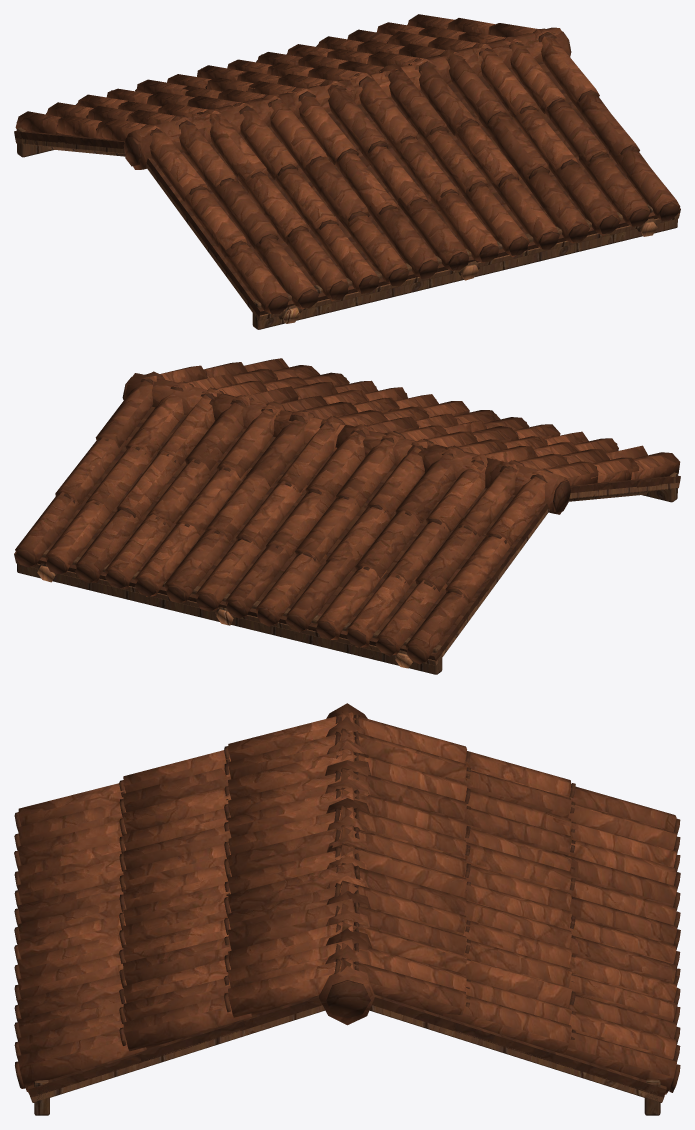
The model's file is roof_26_ridge__clay_brick.glb.
3 renders of one model, top to bottom at view 1: azimuth 30°, elevation 25°; view 2: azimuth 150°, elevation 25°; view 3: azimuth 270°, elevation 25°, orthographic. The views are drawn at different scales.
Parts seen in each view (by area): view 1: model; view 2: model; view 3: model.
Boxes of the visible parts, box(x1,y1,x2,y2) form: model: box(14, 14, 680, 329); model: box(14, 358, 680, 674); model: box(14, 703, 680, 1115).
Size of the model in its own units: 2.05 by 0.5274 by 2.12.
7 materials, 7 textured.
